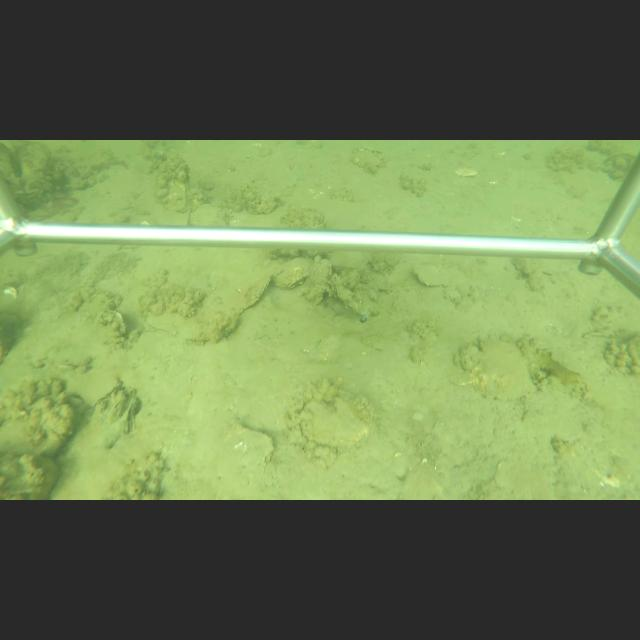Oyster-Closed: (299, 388, 369, 447), (474, 336, 534, 402), (411, 264, 467, 288), (275, 256, 311, 290), (166, 180, 188, 212), (96, 382, 122, 406), (454, 166, 478, 178), (110, 399, 124, 413), (96, 400, 108, 414)
Oyster-Open: (123, 398, 141, 434)
